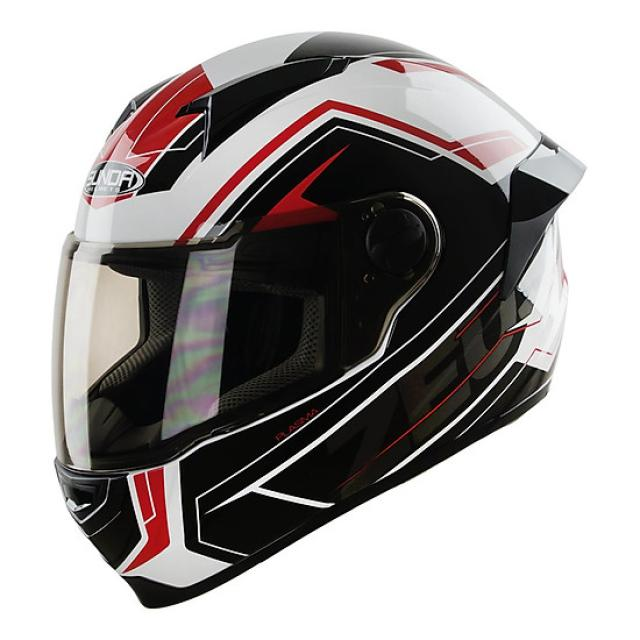Helmet: (44, 27, 588, 607)
